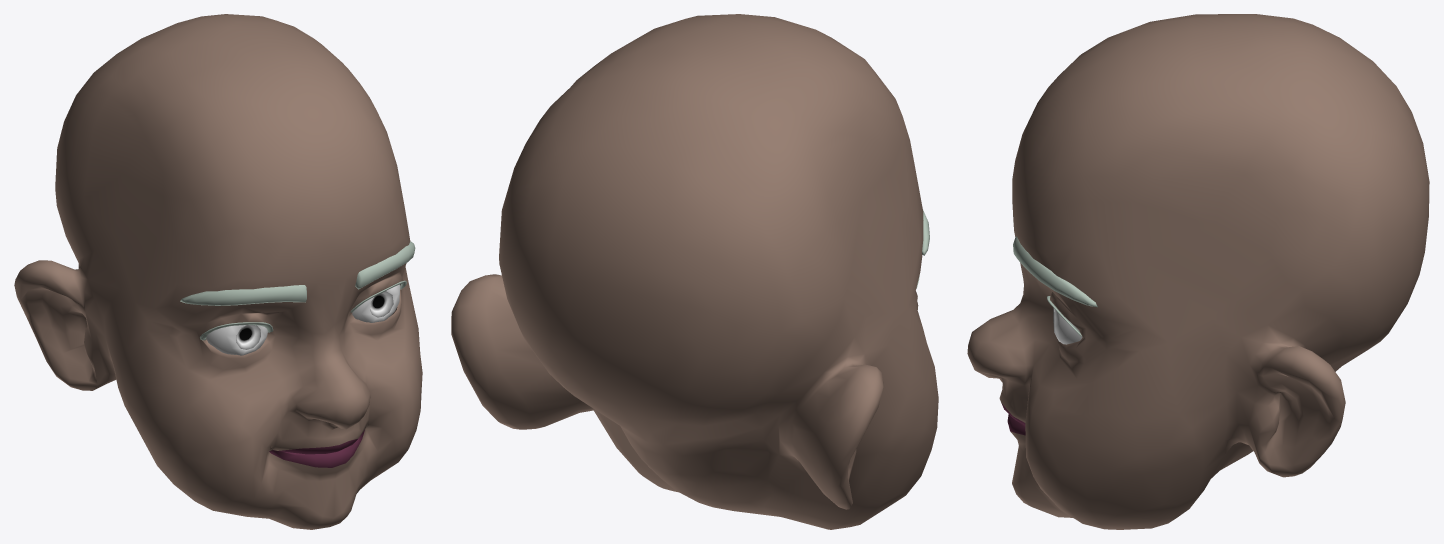
3 renders of one model, left to right at view 1: azimuth 30°, elevation 25°; view 2: azimuth 150°, elevation 25°; view 3: azimuth 270°, elevation 25°, orthographic. The views are drawn at different scales.
Visible parts, largest first — view 1: skin.001, brows.001, eyes.001, lashes.001; view 2: skin.001; view 3: skin.001, brows.001, eyes.001.
Part boxes in pixels (x1,y1,x2,y2): skin.001: (14,14,422,529); brows.001: (180,241,415,305); eyes.001: (206,284,400,355); lashes.001: (200,280,406,340); skin.001: (451,14,938,529); skin.001: (967,14,1429,529); brows.001: (1013,216,1097,307); eyes.001: (1053,308,1082,344).
Size of the model in its own units: 1.7 by 2 by 1.76.
10 materials, 1 textured.
